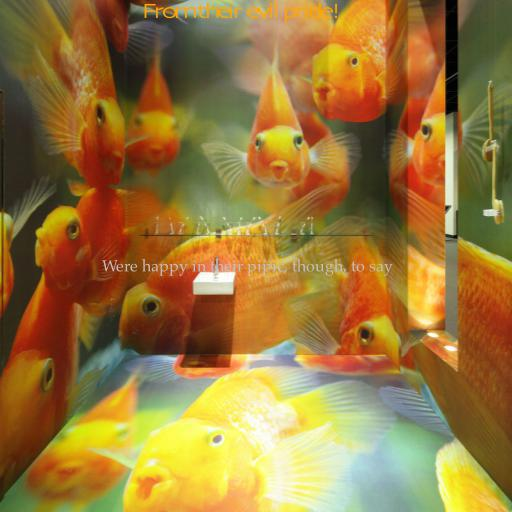Palatino: (101, 258, 393, 276)
Skia: (141, 2, 341, 23)
